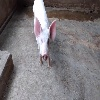heo: (32, 14, 57, 63)
